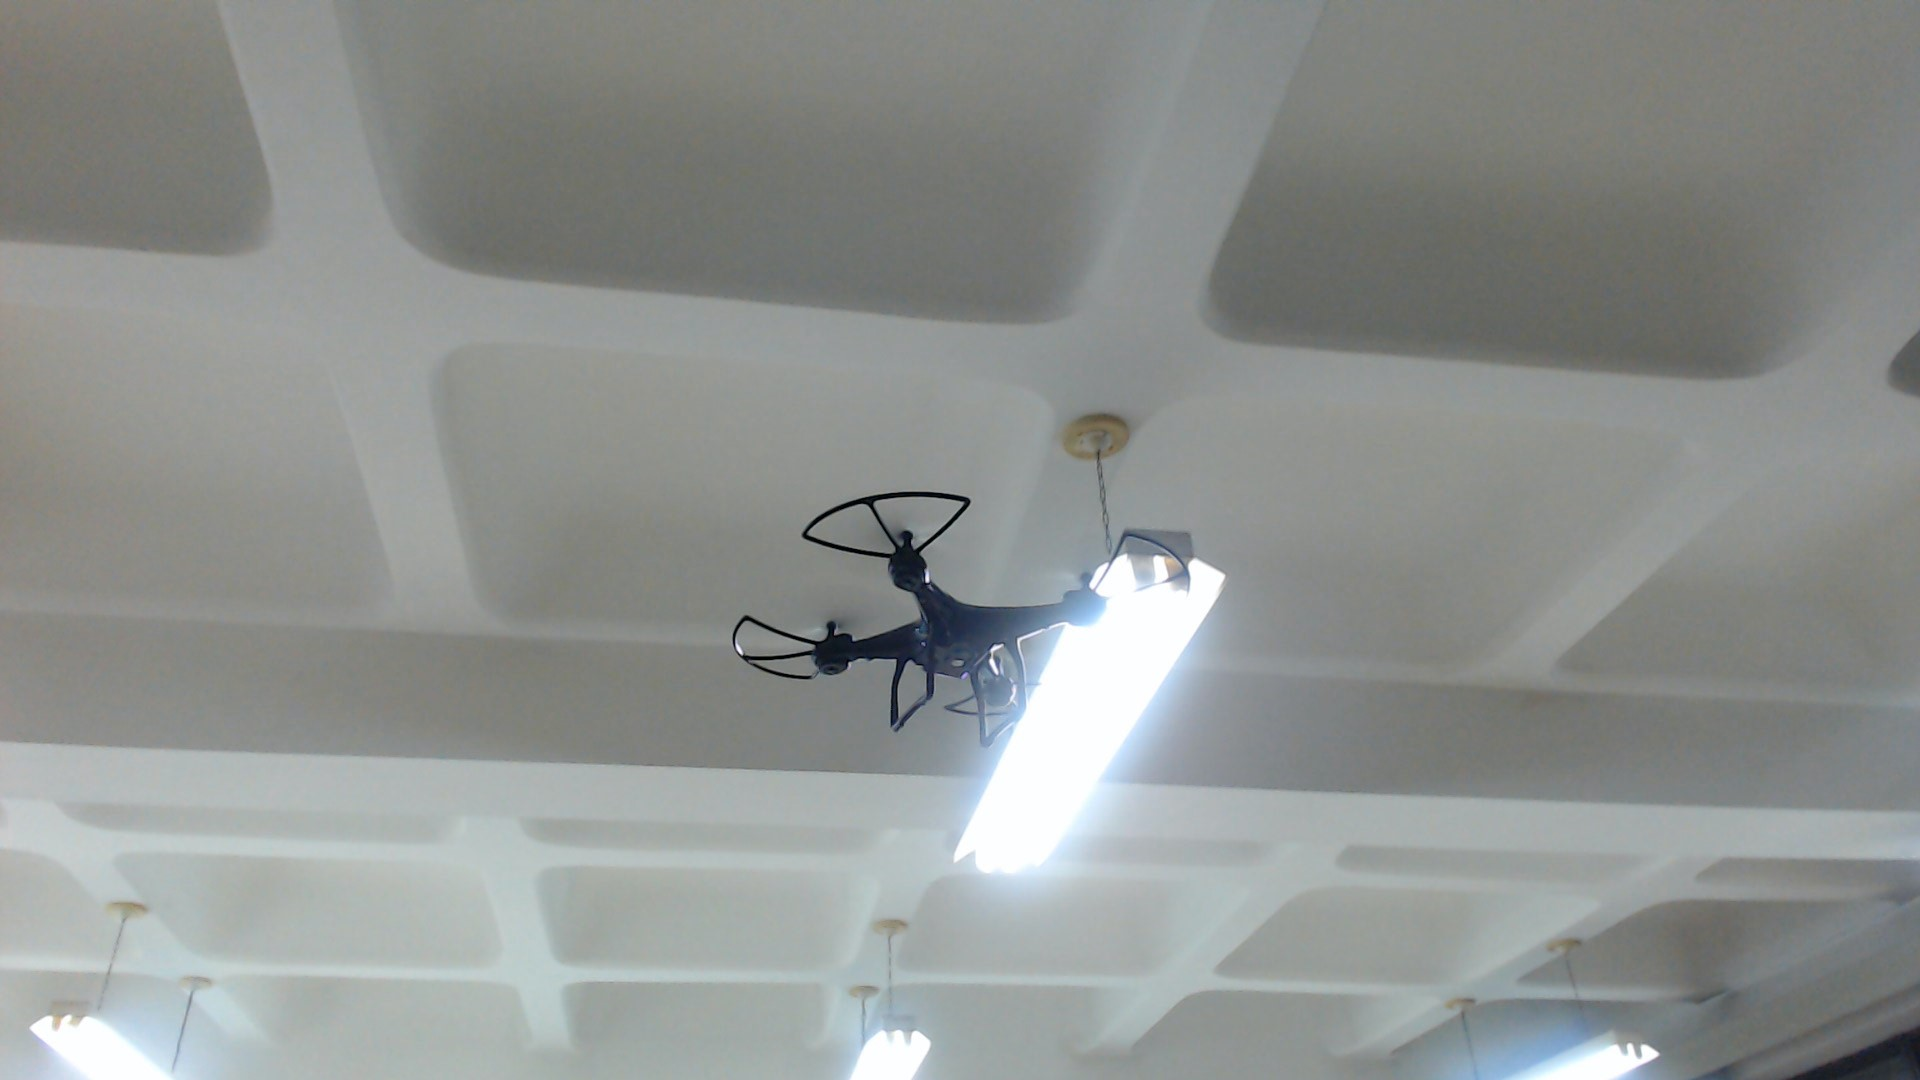test_drone: (729, 484, 1193, 757)
